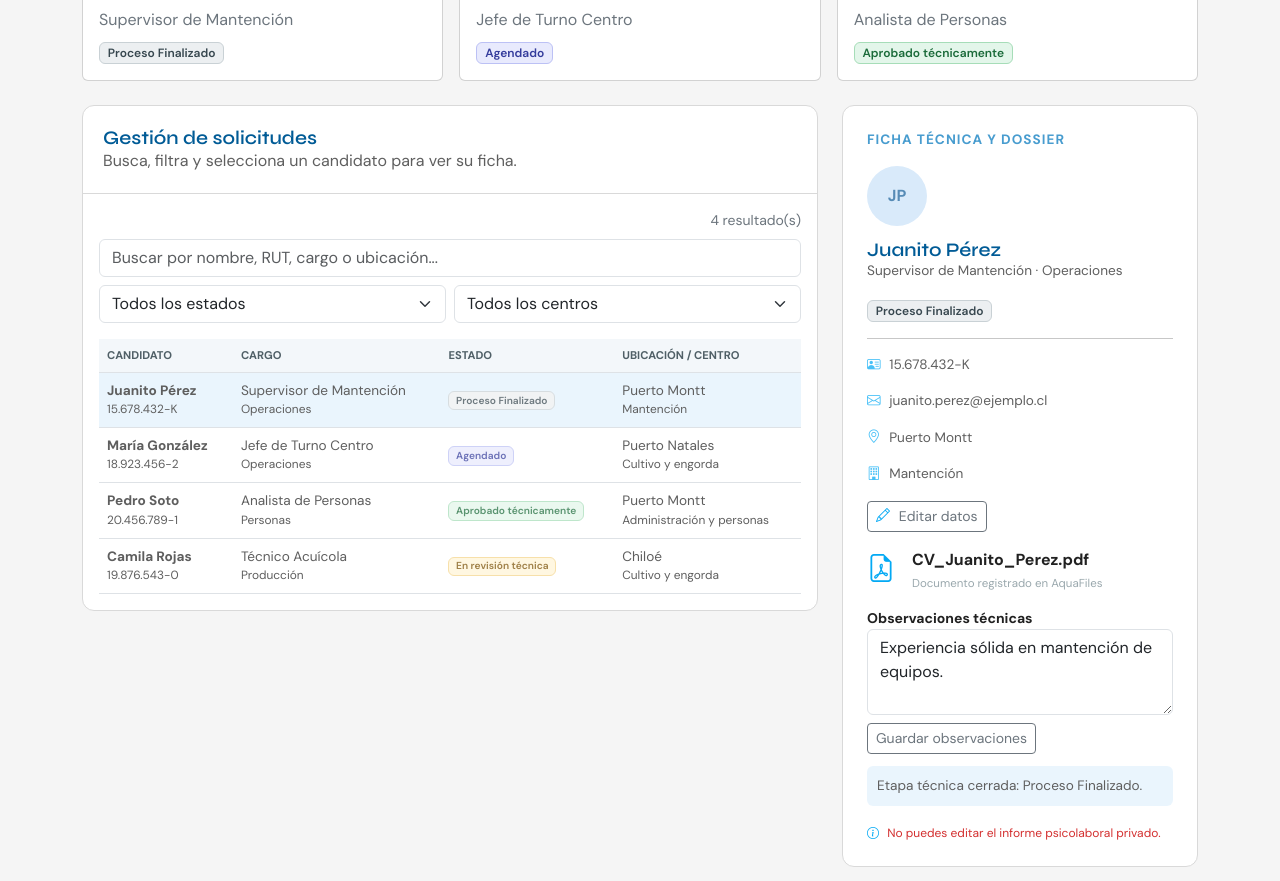
Test case: Flujo del proceso › el supervisor edita el cargo de un candidato
The width and height of the screenshot is (1280, 881).
(page scrolled)
Click the row "Camila Rojas".
click(450, 566)  # box [99,538,801,593]
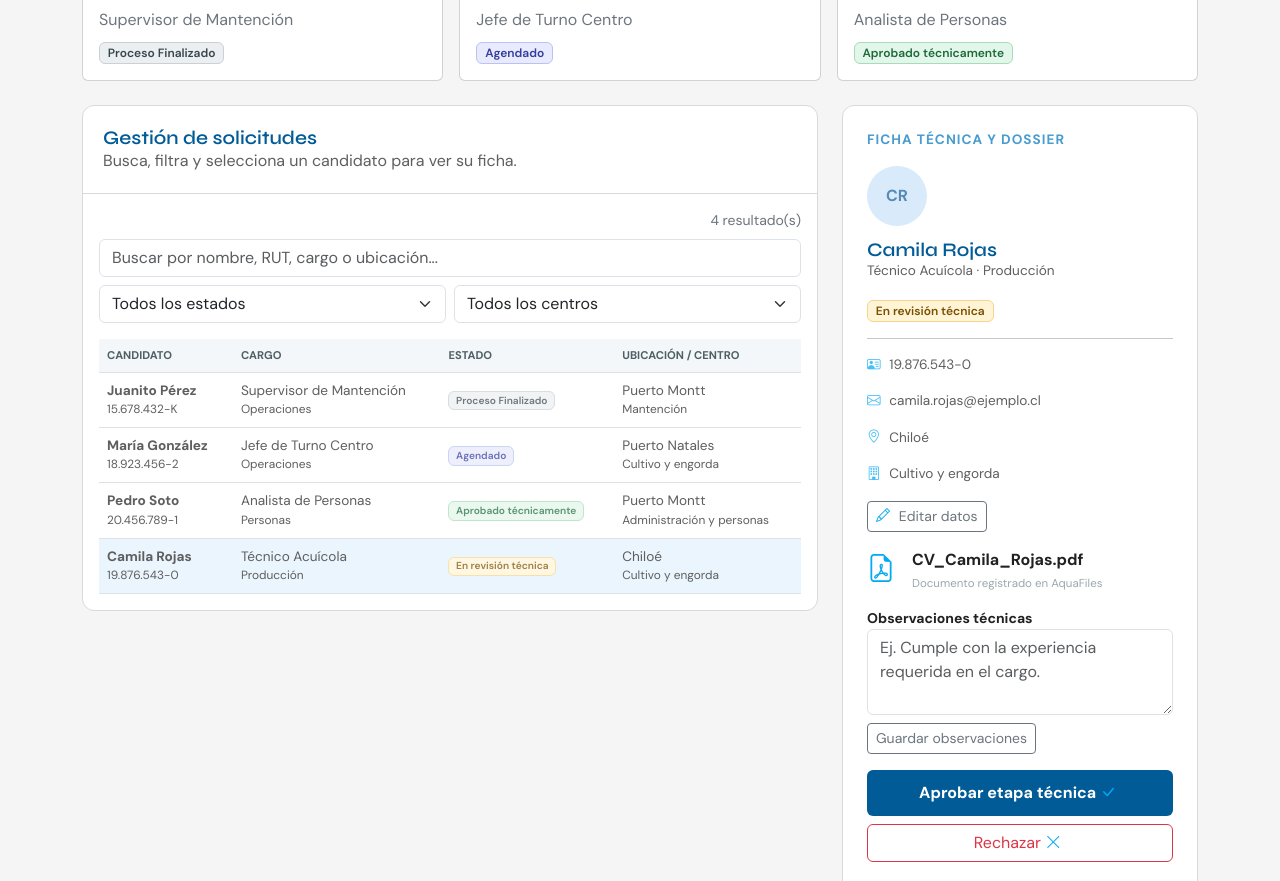
Click the button "Editar datos".
click(927, 516)  # box [867,500,987,532]
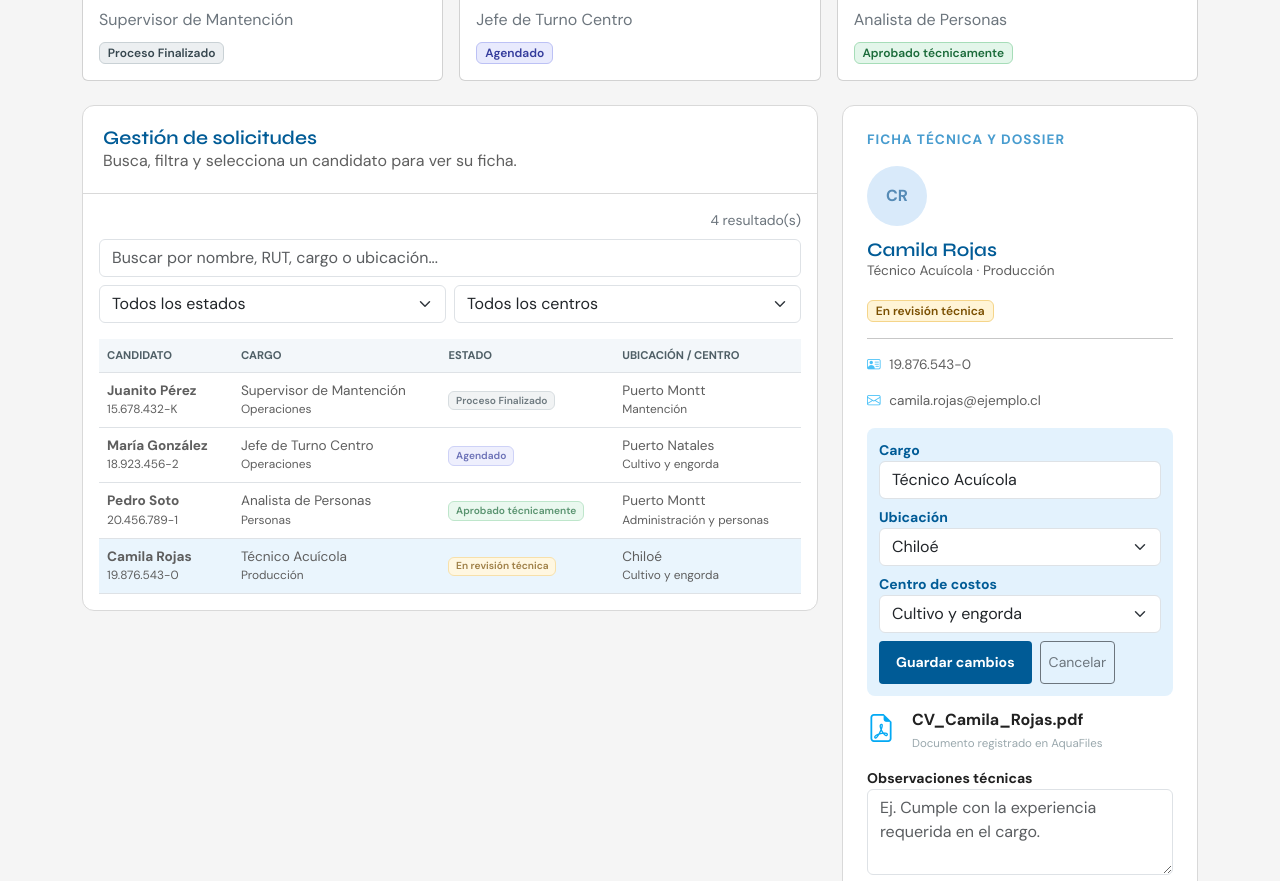
Replace the text in the field labelled "Cargo" with "Jefe de Centro" at x=1020, y=480, box [879,461,1161,499]
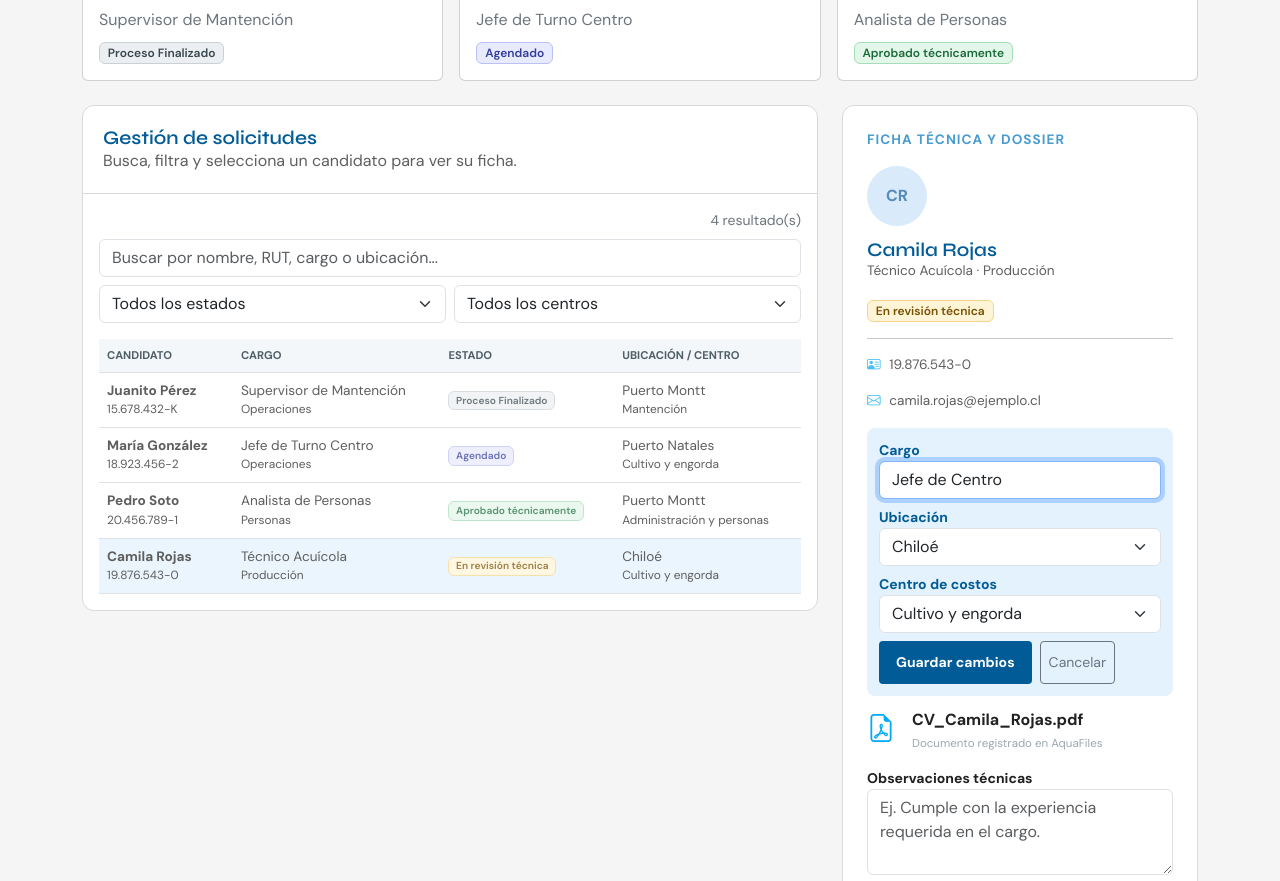
Click the button "Guardar cambios".
click(955, 662)  # box [879,641,1032,684]
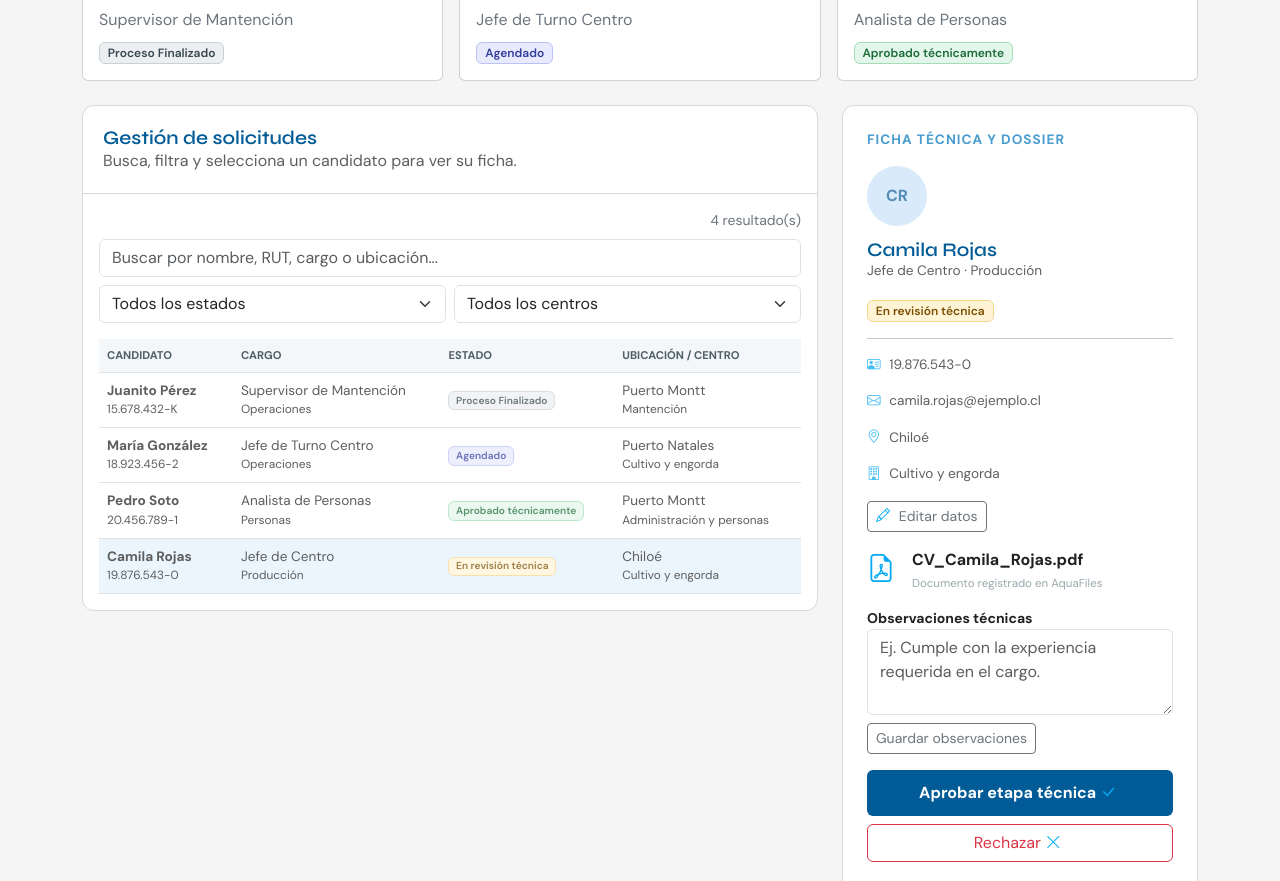
expect the text "Jefe de Centro" is shown: met, box [241,548,334,565]
